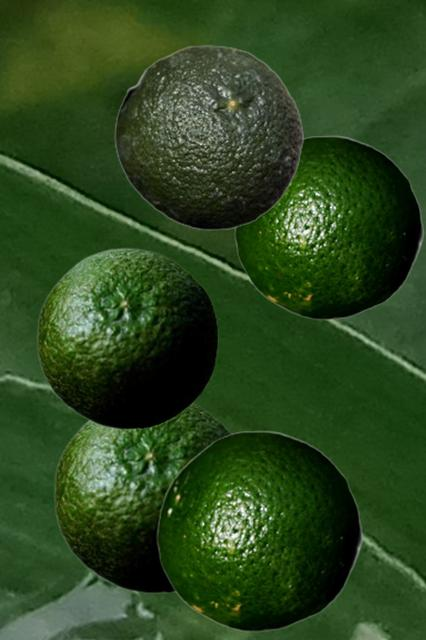calamansi: (156, 430, 362, 631), (234, 135, 423, 319), (114, 45, 303, 229), (53, 402, 232, 593), (36, 247, 217, 429)
